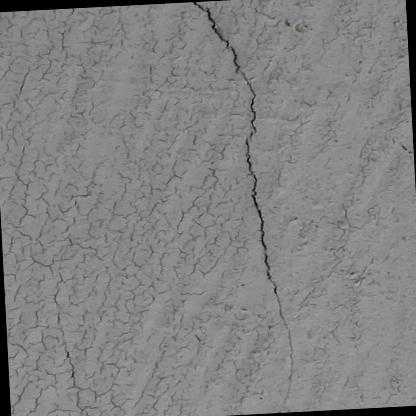crack: (185, 0, 296, 396)
